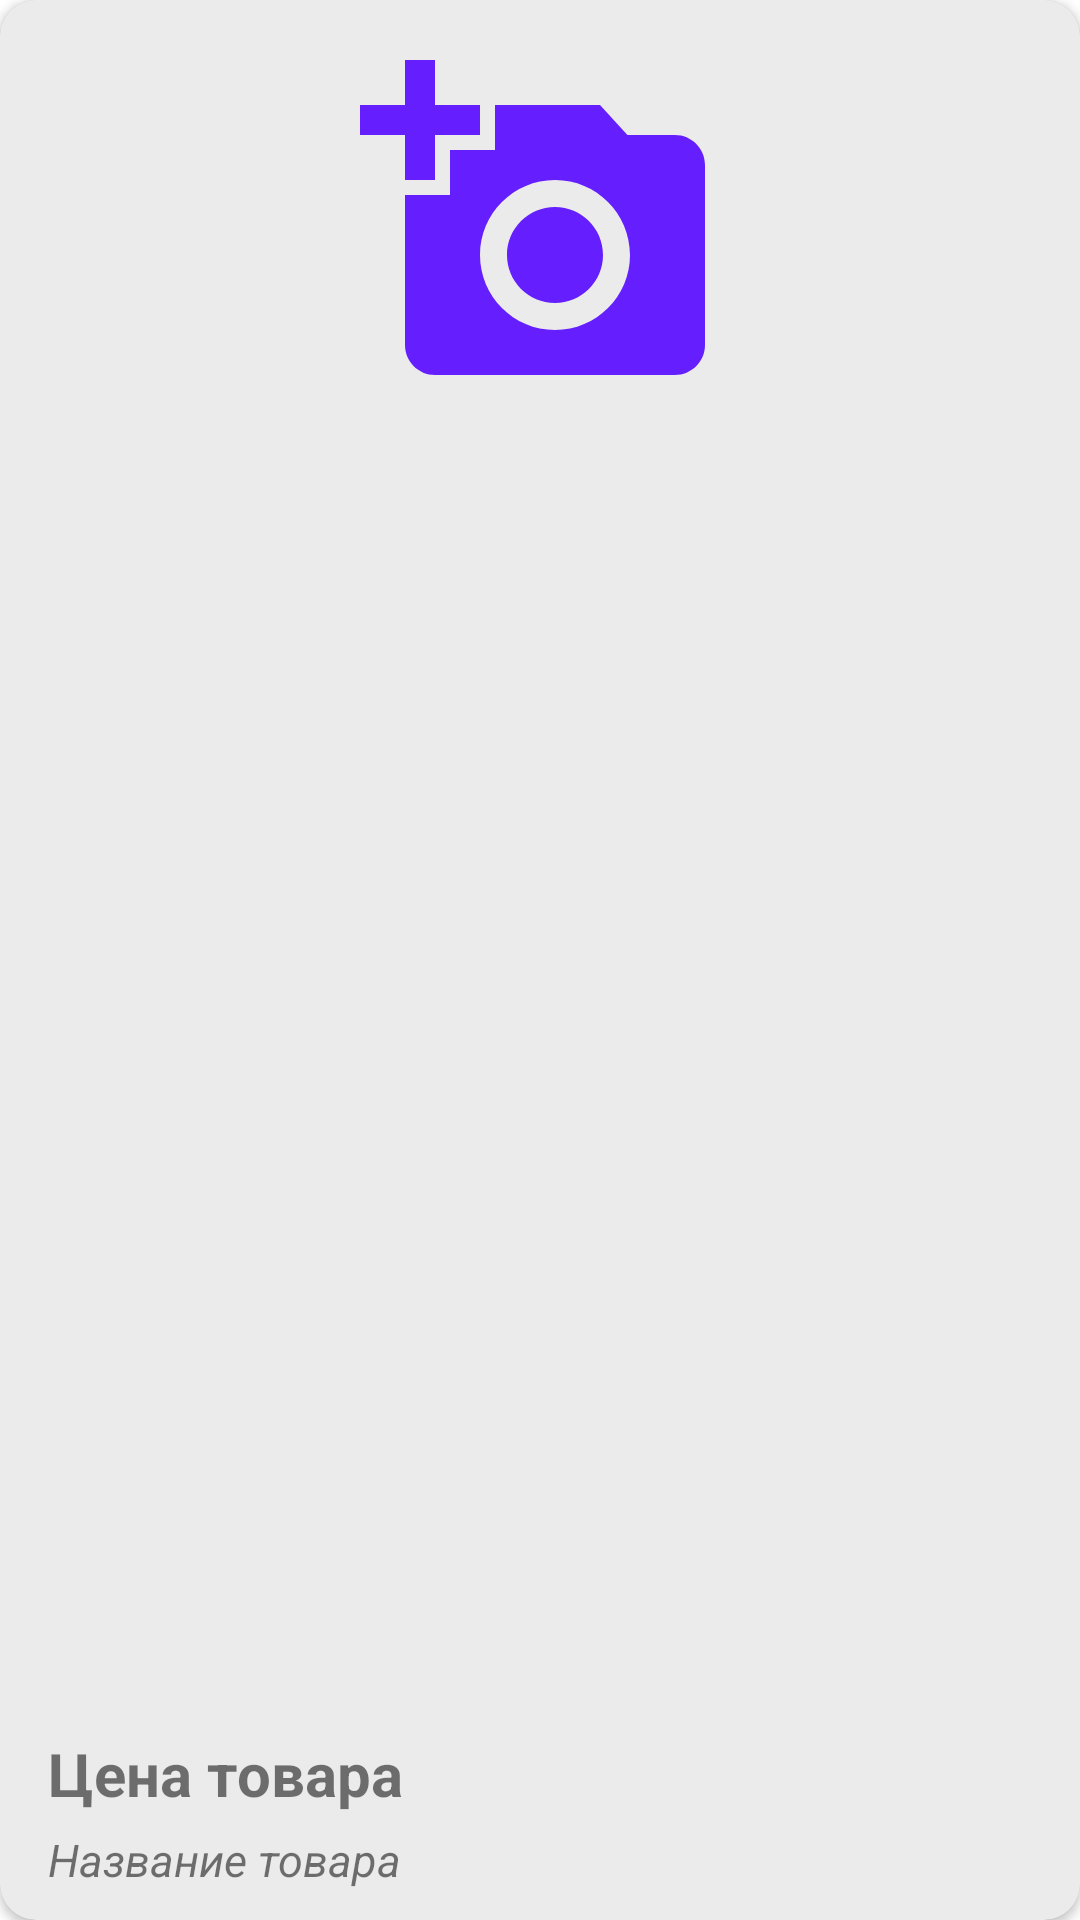

Icon click points for this 1080x1920 phone screenshot, format (x,y):
add photo: (532,217)
